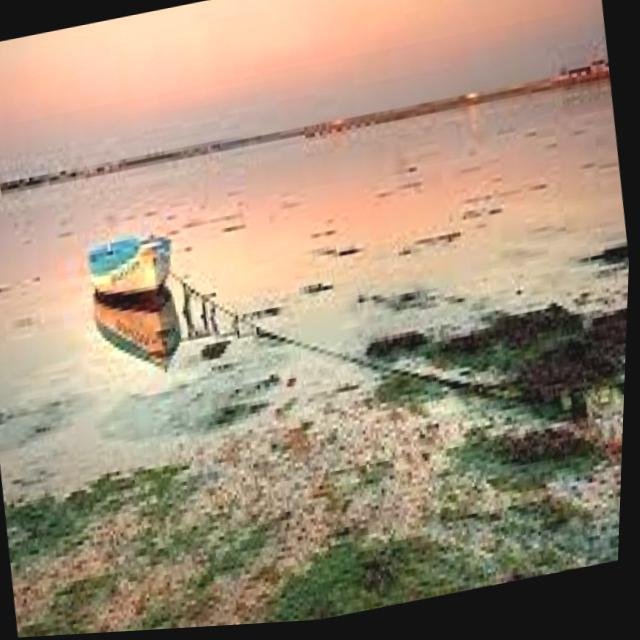ship2: (88, 236, 174, 310)
